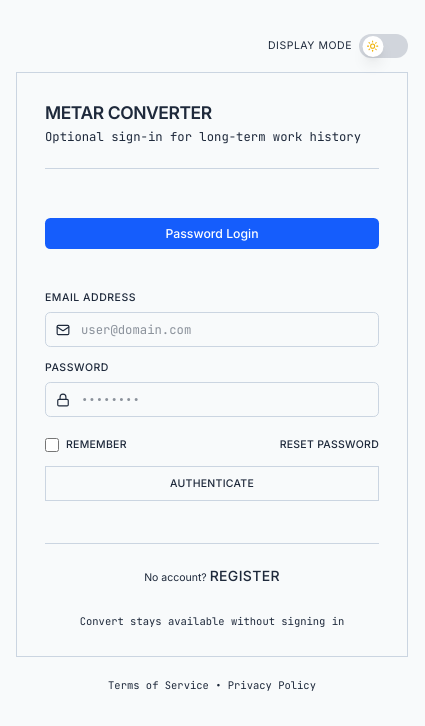
it: Login › shows required validation errors for empty form submit
Click the button with aria-label "sign in to account".
click(212, 484)  # box [45,466,379,501]
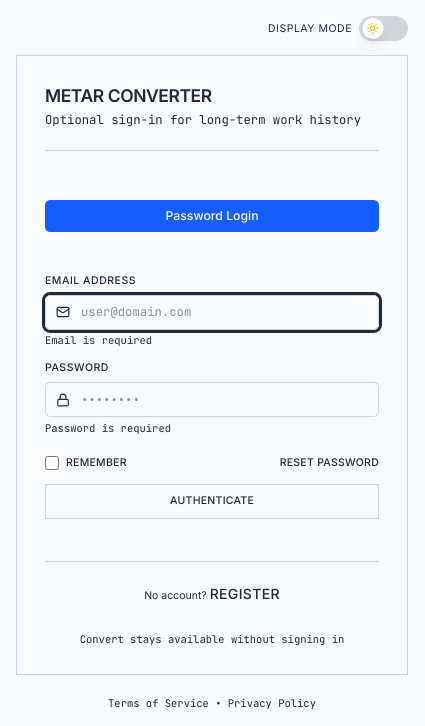
Expected: the text "Email is required" is shown, [45,333,152,347]
Expected: the text "Password is required" is shown, [45,421,171,435]
